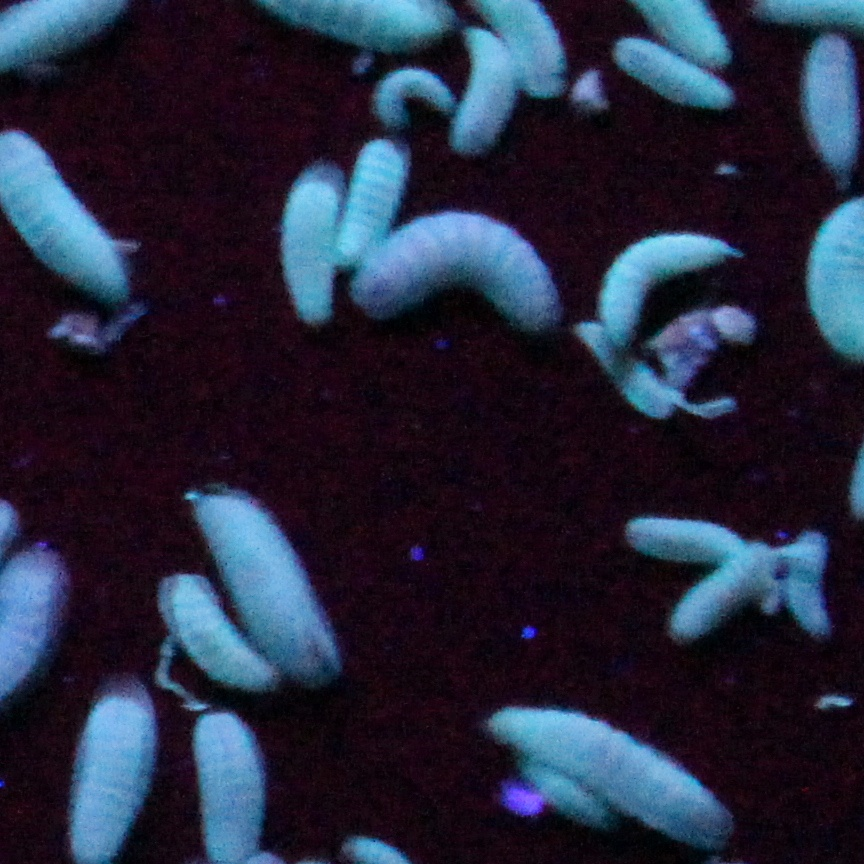larve: (490, 692, 729, 855), (194, 482, 333, 679), (358, 223, 565, 326), (149, 574, 281, 693), (607, 228, 731, 332), (280, 167, 338, 314), (671, 544, 762, 637), (610, 37, 733, 104), (622, 500, 745, 560), (345, 137, 396, 271), (811, 35, 853, 174), (462, 25, 506, 143), (787, 540, 829, 649)
